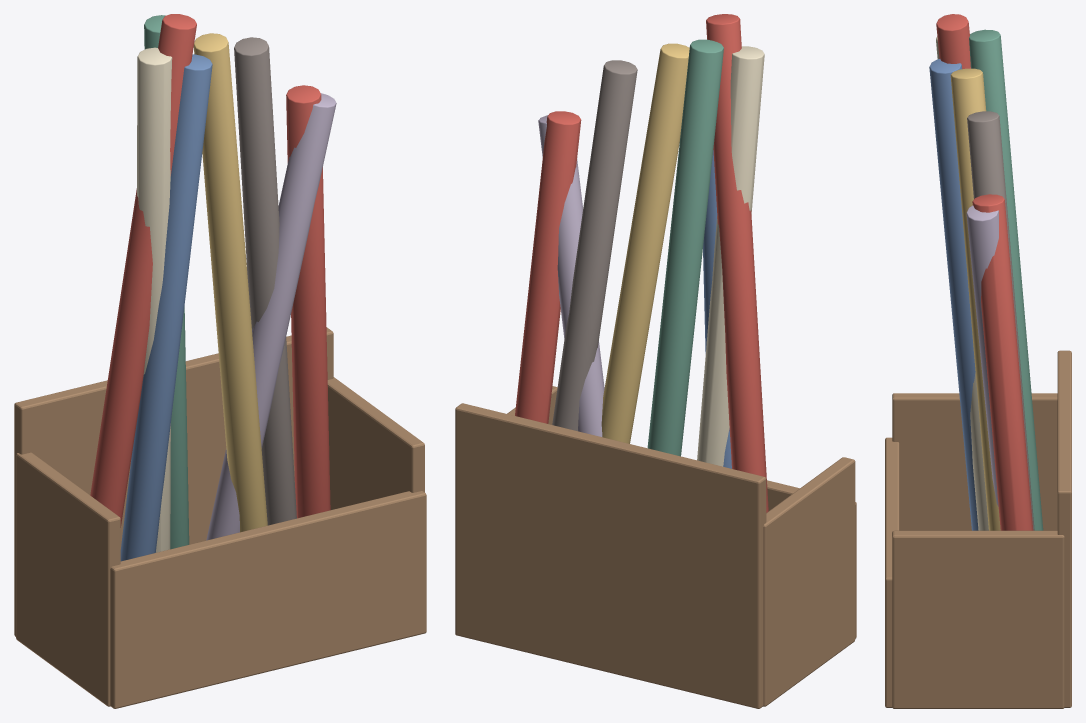
Rendered from v2_fabric_bin.fbx.
3 renders of one model, left to right at view 1: azimuth 30°, elevation 25°; view 2: azimuth 150°, elevation 25°; view 3: azimuth 270°, elevation 25°, orthographic. The views are drawn at different scales.
Visible parts, largest first — view 1: BinFront, BinL, Bolt.005, Bolt.001, BinBack, Bolt.006, Bolt, Bolt.007, Bolt.004, BinR, Bolt.002, Bolt.003; view 2: BinBack, BinL, Bolt.003, Bolt.005, Bolt, Bolt.006, Bolt.007, Bolt.002, Bolt.004, Bolt.001, BinFront; view 3: BinR, BinL, Bolt.007, Bolt.001, Bolt.003, Bolt.005, BinBack, Bolt.006, Bolt.004, BinFront, Bolt, Bolt.002.
Part boxes in pixels (x1,y1,x2,y2): BinFront: [110, 491, 426, 708]; BinL: [16, 452, 120, 706]; Bolt.005: [193, 33, 267, 532]; Bolt.001: [120, 54, 212, 561]; BinBack: [14, 327, 333, 636]; Bolt.006: [234, 37, 296, 525]; Bolt: [90, 14, 196, 527]; Bolt.007: [286, 85, 330, 518]; Bolt.004: [206, 93, 336, 540]; BinR: [327, 377, 424, 509]; Bolt.002: [137, 47, 172, 552]; Bolt.003: [144, 15, 189, 549]; BinBack: [455, 403, 766, 708]; BinL: [763, 457, 855, 706]; Bolt.003: [647, 39, 723, 456]; Bolt.005: [601, 43, 689, 443]; Bolt: [706, 14, 768, 512]; Bolt.006: [552, 60, 637, 431]; Bolt.007: [515, 111, 581, 423]; Bolt.002: [697, 46, 764, 466]; Bolt.004: [538, 115, 604, 436]; Bolt.001: [703, 150, 731, 468]; BinFront: [767, 480, 856, 638]; BinR: [892, 530, 1064, 708]; BinL: [892, 393, 1057, 530]; Bolt.007: [972, 194, 1033, 530]; Bolt.001: [929, 59, 978, 530]; Bolt.003: [969, 29, 1043, 530]; Bolt.005: [950, 68, 1000, 530]; BinBack: [1057, 350, 1071, 707]; Bolt.006: [967, 111, 1034, 530]; Bolt.004: [966, 205, 998, 506]; BinFront: [885, 437, 899, 707]; Bolt: [936, 14, 970, 68]; Bolt.002: [936, 37, 988, 530].
Bounding box in the file's own units: 0.71 × 1.37 × 0.39.
